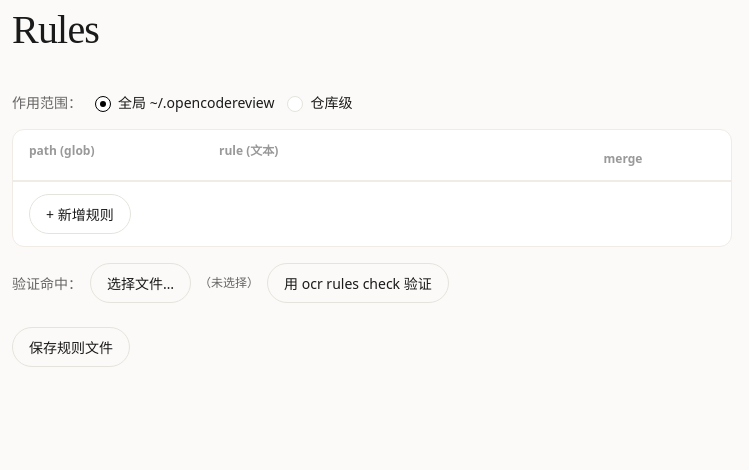
RulesTab 验证命中 › 选择文件并验证，展示命中规则文本
The width and height of the screenshot is (749, 470).
Click the button "选择文件…" at (141, 283), box [90,263,191,303]
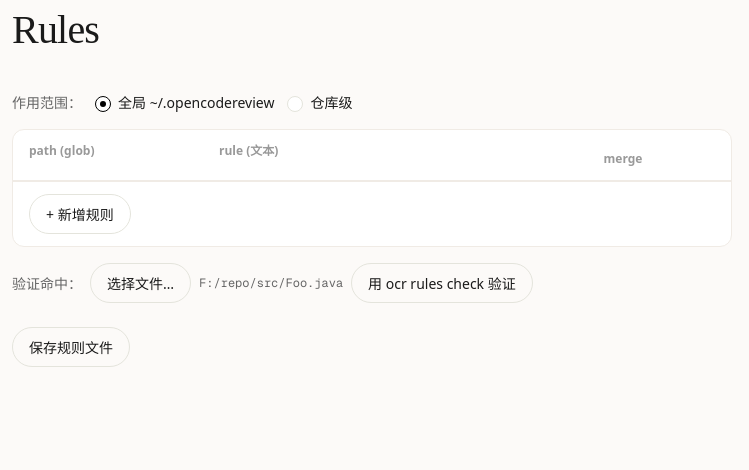
Expected: the text "F:/repo/src/Foo.java" is shown, [199,274,343,292]
Click the button "用 ocr rules check 验证" at (442, 283), box [351,263,533,303]
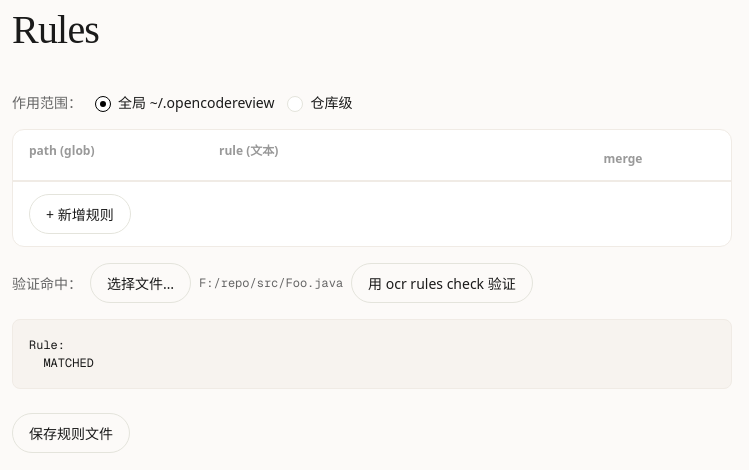
Expected: the text "Rule: MATCHED" is shown, [12,319,732,389]
